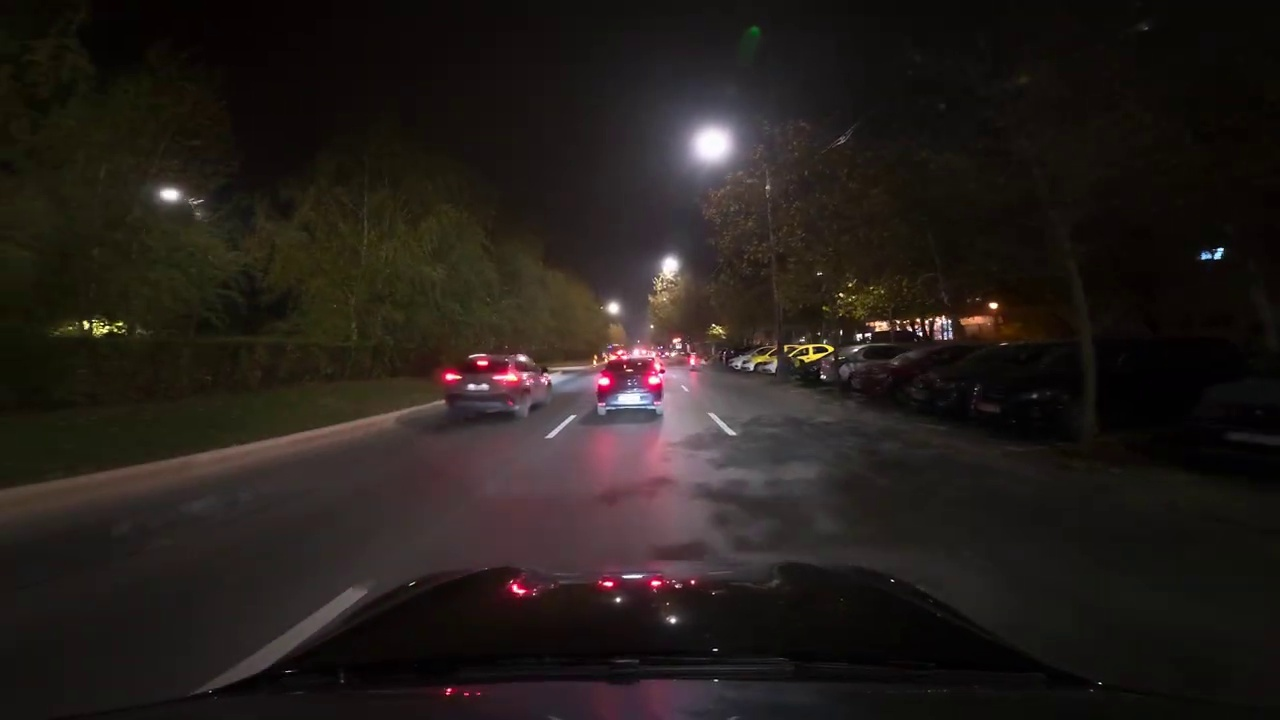acesa: (653, 254, 684, 301), (693, 127, 730, 159), (655, 254, 683, 284)
